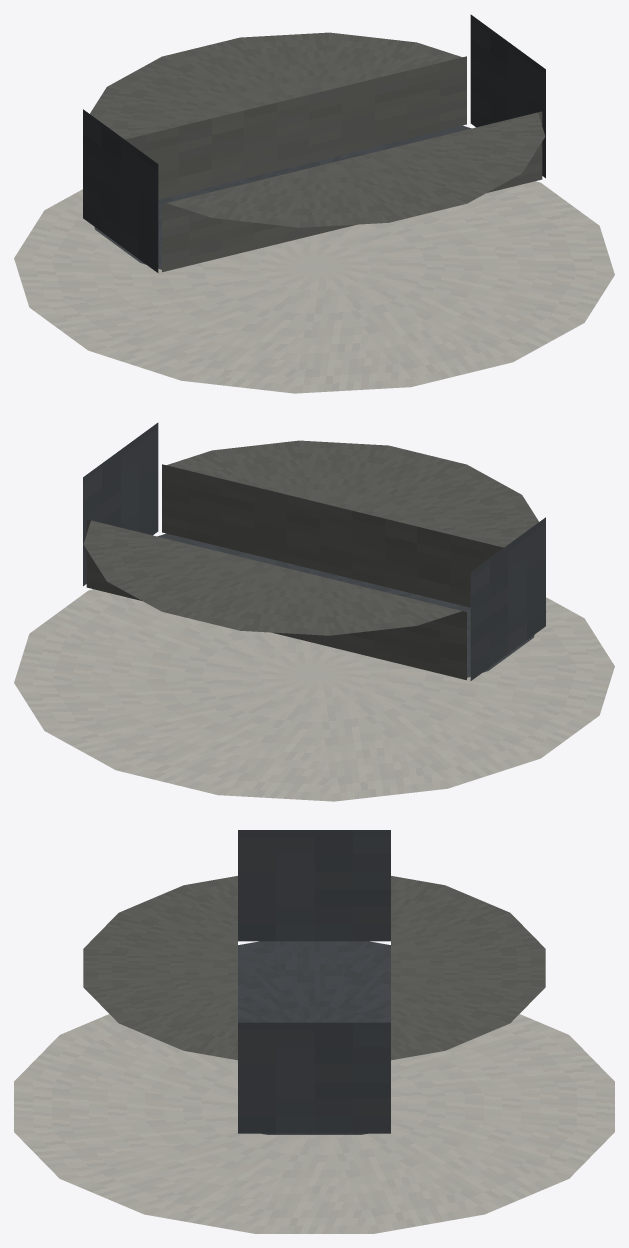
3 renders of one model, top to bottom at view 1: azimuth 30°, elevation 25°; view 2: azimuth 150°, elevation 25°; view 3: azimuth 270°, elevation 25°, orthographic.
Visible parts, largest first — view 1: mh_base; view 2: mh_base; view 3: mh_base.
Part boxes in pixels (x1=…): mh_base: x1=14, y1=14, x2=614, y2=393; mh_base: x1=14, y1=422, x2=614, y2=801; mh_base: x1=14, y1=830, x2=614, y2=1233.
Bounding box in the file's own units: 0.9808 × 0.325 × 0.9808.
